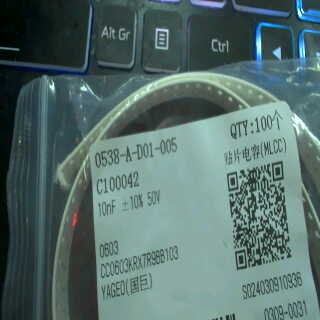10nF: (95, 197, 118, 218)
